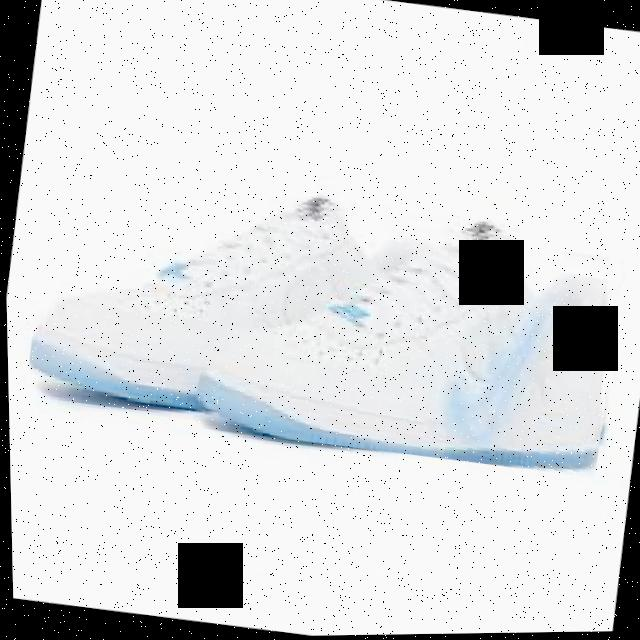shoe: (18, 153, 632, 487), (191, 186, 629, 485)
